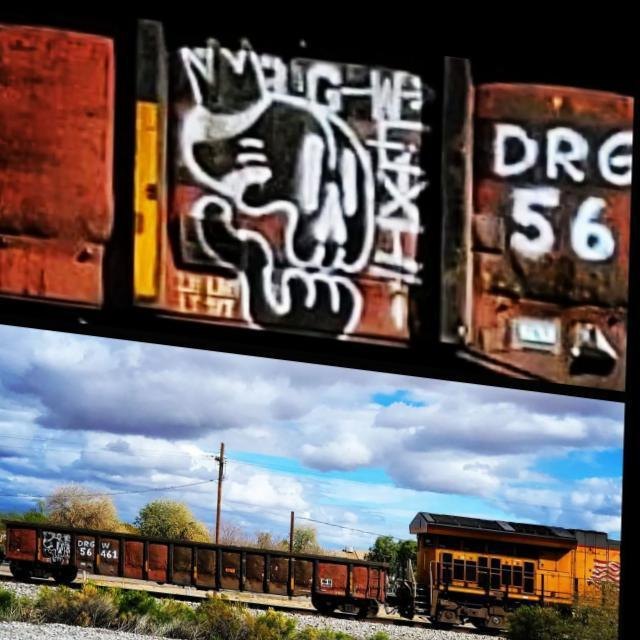nonspitting: (180, 42, 362, 341), (496, 116, 634, 263), (368, 67, 422, 286)
